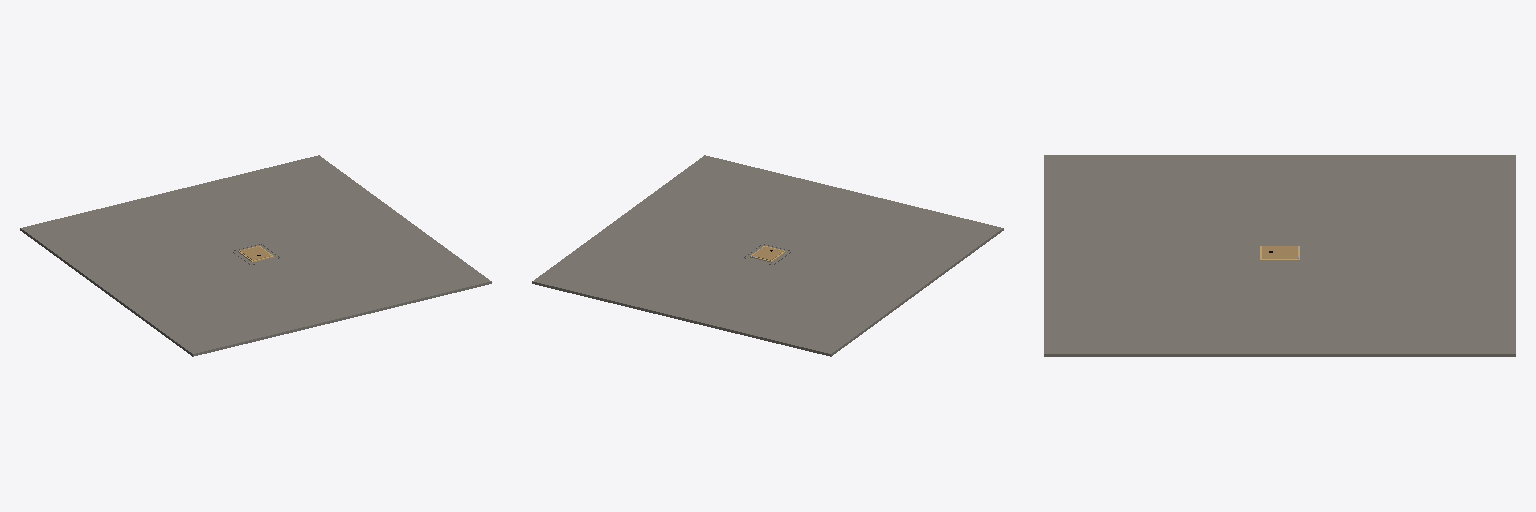
URDF robot description (db0449_hatch_floor_full):
<?xml version="1.0" ?>
<robot xmlns:doorbench="https://github.com/adamraudonis/DoorBench/schema/urdf-ext" name="db0449_hatch_floor_full">
  <link name="world_env">
    <visual name="floor_a_vis">
      <origin xyz="-3.1925 0 -0.05" rpy="0 0 0"/>
      <geometry>
        <box size="5.615 12 0.1"/>
      </geometry>
      <material name="mat_floor"/>
    </visual>
    <collision name="floor_a_col">
      <origin xyz="-3.1925 0 -0.05" rpy="0 0 0"/>
      <geometry>
        <box size="5.615 12 0.1"/>
      </geometry>
    </collision>
    <visual name="floor_b_vis">
      <origin xyz="3.1925 0 -0.05" rpy="0 0 0"/>
      <geometry>
        <box size="5.615 12 0.1"/>
      </geometry>
      <material name="mat_floor"/>
    </visual>
    <collision name="floor_b_col">
      <origin xyz="3.1925 0 -0.05" rpy="0 0 0"/>
      <geometry>
        <box size="5.615 12 0.1"/>
      </geometry>
    </collision>
    <visual name="floor_c_vis">
      <origin xyz="0 -3.2275 -0.05" rpy="0 0 0"/>
      <geometry>
        <box size="0.77 5.545 0.1"/>
      </geometry>
      <material name="mat_floor"/>
    </visual>
    <collision name="floor_c_col">
      <origin xyz="0 -3.2275 -0.05" rpy="0 0 0"/>
      <geometry>
        <box size="0.77 5.545 0.1"/>
      </geometry>
    </collision>
    <visual name="floor_d_vis">
      <origin xyz="0 3.2275 -0.05" rpy="0 0 0"/>
      <geometry>
        <box size="0.77 5.545 0.1"/>
      </geometry>
      <material name="mat_floor"/>
    </visual>
    <collision name="floor_d_col">
      <origin xyz="0 3.2275 -0.05" rpy="0 0 0"/>
      <geometry>
        <box size="0.77 5.545 0.1"/>
      </geometry>
    </collision>
    <visual name="pit_floor_vis">
      <origin xyz="0 0 -1.5" rpy="0 0 0"/>
      <geometry>
        <box size="1.17 1.31 0.04"/>
      </geometry>
      <material name="mat_pit"/>
    </visual>
    <collision name="pit_floor_col">
      <origin xyz="0 0 -1.5" rpy="0 0 0"/>
      <geometry>
        <box size="1.17 1.31 0.04"/>
      </geometry>
    </collision>
    <visual name="pit_wall_l_vis">
      <origin xyz="-0.595 0 -0.75" rpy="0 0 0"/>
      <geometry>
        <box size="0.02 1.35 1.5"/>
      </geometry>
      <material name="mat_pit"/>
    </visual>
    <collision name="pit_wall_l_col">
      <origin xyz="-0.595 0 -0.75" rpy="0 0 0"/>
      <geometry>
        <box size="0.02 1.35 1.5"/>
      </geometry>
    </collision>
    <visual name="pit_wall_r_vis">
      <origin xyz="0.595 0 -0.75" rpy="0 0 0"/>
      <geometry>
        <box size="0.02 1.35 1.5"/>
      </geometry>
      <material name="mat_pit"/>
    </visual>
    <collision name="pit_wall_r_col">
      <origin xyz="0.595 0 -0.75" rpy="0 0 0"/>
      <geometry>
        <box size="0.02 1.35 1.5"/>
      </geometry>
    </collision>
    <visual name="pit_wall_n_vis">
      <origin xyz="0 -0.665 -0.75" rpy="0 0 0"/>
      <geometry>
        <box size="1.17 0.02 1.5"/>
      </geometry>
      <material name="mat_pit"/>
    </visual>
    <collision name="pit_wall_n_col">
      <origin xyz="0 -0.665 -0.75" rpy="0 0 0"/>
      <geometry>
        <box size="1.17 0.02 1.5"/>
      </geometry>
    </collision>
    <visual name="pit_wall_f_vis">
      <origin xyz="0 0.665 -0.75" rpy="0 0 0"/>
      <geometry>
        <box size="1.17 0.02 1.5"/>
      </geometry>
      <material name="mat_pit"/>
    </visual>
    <collision name="pit_wall_f_col">
      <origin xyz="0 0.665 -0.75" rpy="0 0 0"/>
      <geometry>
        <box size="1.17 0.02 1.5"/>
      </geometry>
    </collision>
    <visual name="curb_l_vis">
      <origin xyz="-0.41 0 0.02" rpy="0 0 0"/>
      <geometry>
        <box size="0.05 1.01 0.04"/>
      </geometry>
      <material name="mat_frame"/>
    </visual>
    <collision name="curb_l_col">
      <origin xyz="-0.41 0 0.02" rpy="0 0 0"/>
      <geometry>
        <box size="0.05 1.01 0.04"/>
      </geometry>
    </collision>
    <visual name="curb_r_vis">
      <origin xyz="0.41 0 0.02" rpy="0 0 0"/>
      <geometry>
        <box size="0.05 1.01 0.04"/>
      </geometry>
      <material name="mat_frame"/>
    </visual>
    <collision name="curb_r_col">
      <origin xyz="0.41 0 0.02" rpy="0 0 0"/>
      <geometry>
        <box size="0.05 1.01 0.04"/>
      </geometry>
    </collision>
    <visual name="curb_n_vis">
      <origin xyz="0 -0.48 0.02" rpy="0 0 0"/>
      <geometry>
        <box size="0.77 0.05 0.04"/>
      </geometry>
      <material name="mat_frame"/>
    </visual>
    <collision name="curb_n_col">
      <origin xyz="0 -0.48 0.02" rpy="0 0 0"/>
      <geometry>
        <box size="0.77 0.05 0.04"/>
      </geometry>
    </collision>
    <visual name="curb_f_vis">
      <origin xyz="0 0.48 0.02" rpy="0 0 0"/>
      <geometry>
        <box size="0.77 0.05 0.04"/>
      </geometry>
      <material name="mat_frame"/>
    </visual>
    <collision name="curb_f_col">
      <origin xyz="0 0.48 0.02" rpy="0 0 0"/>
      <geometry>
        <box size="0.77 0.05 0.04"/>
      </geometry>
    </collision>
    <visual name="hatch_hinge_0_curb_n_vis">
      <origin xyz="-0.334 0.465 0.04" rpy="0 1.570796 0"/>
      <geometry>
        <cylinder radius="0.01" length="0.036"/>
      </geometry>
      <material name="mat_hinge"/>
    </visual>
    <visual name="hatch_hinge_0_curb_strap_n_vis">
      <origin xyz="-0.334 0.485 0.03" rpy="0 0 0"/>
      <geometry>
        <box size="0.036 0.064 0.01"/>
      </geometry>
      <material name="mat_hinge"/>
    </visual>
    <visual name="hatch_hinge_0_curb_p_vis">
      <origin xyz="-0.246 0.465 0.04" rpy="0 1.570796 0"/>
      <geometry>
        <cylinder radius="0.01" length="0.036"/>
      </geometry>
      <material name="mat_hinge"/>
    </visual>
    <visual name="hatch_hinge_0_curb_strap_p_vis">
      <origin xyz="-0.246 0.485 0.03" rpy="0 0 0"/>
      <geometry>
        <box size="0.036 0.064 0.01"/>
      </geometry>
      <material name="mat_hinge"/>
    </visual>
    <visual name="hatch_hinge_1_curb_n_vis">
      <origin xyz="0.246 0.465 0.04" rpy="0 1.570796 0"/>
      <geometry>
        <cylinder radius="0.01" length="0.036"/>
      </geometry>
      <material name="mat_hinge"/>
    </visual>
    <visual name="hatch_hinge_1_curb_strap_n_vis">
      <origin xyz="0.246 0.485 0.03" rpy="0 0 0"/>
      <geometry>
        <box size="0.036 0.064 0.01"/>
      </geometry>
      <material name="mat_hinge"/>
    </visual>
    <visual name="hatch_hinge_1_curb_p_vis">
      <origin xyz="0.334 0.465 0.04" rpy="0 1.570796 0"/>
      <geometry>
        <cylinder radius="0.01" length="0.036"/>
      </geometry>
      <material name="mat_hinge"/>
    </visual>
    <visual name="hatch_hinge_1_curb_strap_p_vis">
      <origin xyz="0.334 0.485 0.03" rpy="0 0 0"/>
      <geometry>
        <box size="0.036 0.064 0.01"/>
      </geometry>
      <material name="mat_hinge"/>
    </visual>
  </link>
  <link name="hatch">
    <inertial>
      <origin xyz="0 -0.453201 0.000226" rpy="0 0 0"/>
      <mass value="17.7935"/>
      <inertia ixx="1.279285844" ixy="0" ixz="0" iyy="0.869867419" iyz="0.000109713" izz="2.146115729"/>
    </inertial>
    <visual name="hatch_slab_vis">
      <origin xyz="0 -0.465 0" rpy="0 0 0"/>
      <geometry>
        <box size="0.76 0.902 0.032"/>
      </geometry>
      <material name="mat_leaf"/>
    </visual>
    <collision name="hatch_slab_col">
      <origin xyz="0 -0.465 0" rpy="0 0 0"/>
      <geometry>
        <box size="0.76 0.902 0.032"/>
      </geometry>
    </collision>
    <visual name="hatch_hinge_0_vis">
      <origin xyz="-0.29 0 0" rpy="0 1.570796 0"/>
      <geometry>
        <cylinder radius="0.01" length="0.056"/>
      </geometry>
      <material name="mat_hinge"/>
    </visual>
    <visual name="hatch_hinge_0_strap_vis">
      <origin xyz="-0.29 -0.017 0.005" rpy="0 0 0"/>
      <geometry>
        <box size="0.056 0.046 0.006"/>
      </geometry>
      <material name="mat_hinge"/>
    </visual>
    <visual name="hatch_hinge_1_vis">
      <origin xyz="0.29 0 0" rpy="0 1.570796 0"/>
      <geometry>
        <cylinder radius="0.01" length="0.056"/>
      </geometry>
      <material name="mat_hinge"/>
    </visual>
    <visual name="hatch_hinge_1_strap_vis">
      <origin xyz="0.29 -0.017 0.005" rpy="0 0 0"/>
      <geometry>
        <box size="0.056 0.046 0.006"/>
      </geometry>
      <material name="mat_hinge"/>
    </visual>
    <visual name="ring_recess_vis">
      <origin xyz="0 -0.6925 0.017" rpy="0 0 0"/>
      <geometry>
        <box size="0.1 0.1 0.002"/>
      </geometry>
      <material name="mat_op_wrought_iron"/>
    </visual>
  </link>
  <link name="ring">
    <inertial>
      <origin xyz="0 0.019982 0.002997" rpy="0 0 0"/>
      <mass value="0.2225"/>
      <inertia ixx="0.000076951" ixy="0" ixz="0" iyy="0.000084455" iyz="-0.000008269" izz="0.00015403"/>
    </inertial>
    <visual name="ring_geom_vis">
      <origin xyz="0 0.04 0.006" rpy="0 1.570796 0"/>
      <geometry>
        <cylinder radius="0.006" length="0.07"/>
      </geometry>
      <material name="mat_op_wrought_iron"/>
    </visual>
    <collision name="ring_geom_col">
      <origin xyz="0 0.04 0.006" rpy="0 1.570796 0"/>
      <geometry>
        <cylinder radius="0.006" length="0.07"/>
      </geometry>
    </collision>
    <visual name="ring_knuckle_vis">
      <origin xyz="0 0 0" rpy="0 1.570796 0"/>
      <geometry>
        <cylinder radius="0.008" length="0.044"/>
      </geometry>
      <material name="mat_op_wrought_iron"/>
    </visual>
    <visual name="ring_arm_n_vis">
      <origin xyz="-0.02 0.02 0.003" rpy="-1.570796 0 0"/>
      <geometry>
        <cylinder radius="0.006" length="0.04"/>
      </geometry>
      <material name="mat_op_wrought_iron"/>
    </visual>
    <visual name="ring_arm_p_vis">
      <origin xyz="0.02 0.02 0.003" rpy="-1.570796 0 0"/>
      <geometry>
        <cylinder radius="0.006" length="0.04"/>
      </geometry>
      <material name="mat_op_wrought_iron"/>
    </visual>
  </link>
  <joint name="hatch_hinge" type="revolute">
    <origin xyz="0 0.465 0.04" rpy="0 0 0"/>
    <parent link="world_env"/>
    <child link="hatch"/>
    <axis xyz="-1 0 0"/>
    <limit lower="0" upper="1.919862" effort="2000" velocity="10"/>
    <dynamics damping="0.554227" friction="3.277526"/>
  </joint>
  <joint name="ring_hinge" type="revolute">
    <origin xyz="0 -0.6925 0.016" rpy="0 0 0"/>
    <parent link="hatch"/>
    <child link="ring"/>
    <axis xyz="1 0 0"/>
    <limit lower="0" upper="1.392122" effort="2000" velocity="10"/>
    <dynamics damping="0.003476" friction="0"/>
  </joint>
  <material name="mat_floor">
    <color rgba="0.55 0.53 0.5 1"/>
  </material>
  <material name="mat_frame">
    <color rgba="0.82 0.7 0.5 1"/>
  </material>
  <material name="mat_hinge">
    <color rgba="0.65 0.66 0.68 1"/>
  </material>
  <material name="mat_leaf">
    <color rgba="0.7 0.58 0.42 1"/>
  </material>
  <material name="mat_op_wrought_iron">
    <color rgba="0.08 0.08 0.09 1"/>
  </material>
  <material name="mat_pit">
    <color rgba="0.3 0.3 0.3 1"/>
  </material>
</robot>

--- Render facts (derived) ---
The picture shows the robot from 3 angles, left to right: view 1: azimuth 30°, elevation 25°; view 2: azimuth 150°, elevation 25°; view 3: azimuth 270°, elevation 25°; orthographic projection.
Model db0449_hatch_floor_full with 3 links and 2 joints (2 revolute), rooted at world_env, posed every joint at zero.
Visible links, largest first — view 1: world_env; view 2: world_env; view 3: world_env.
Link boxes in pixels (left/top/right/bottom): world_env: left=20, top=155, right=491, bottom=356; world_env: left=532, top=155, right=1003, bottom=356; world_env: left=1044, top=155, right=1515, bottom=356.
Size in the robot's own frame: 12 by 12 by 1.59 metres.
Geometry: primitives only (box / cylinder / sphere), no mesh files.
